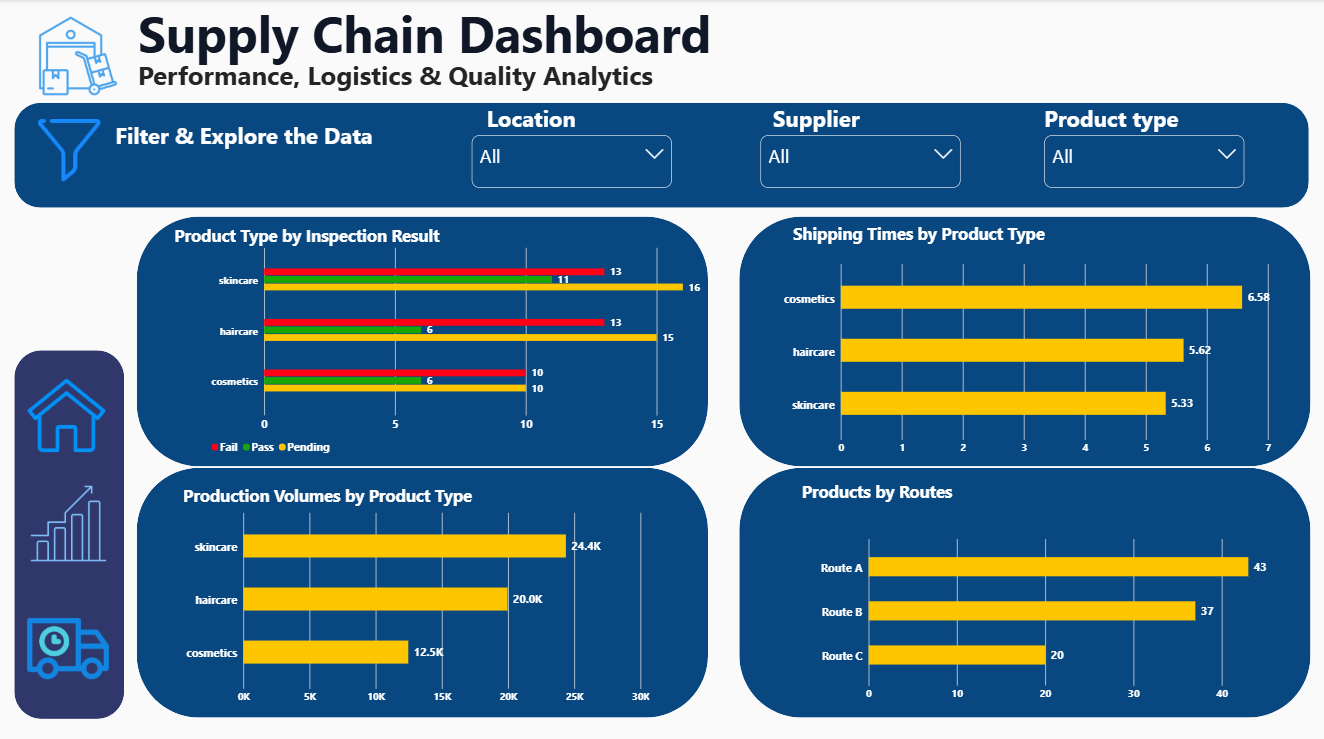

This screenshot's page, from the dashboard's own definition file:
{"tool":"powerbi","page":{"name":"Operations & Quality","canvas":[1920,1080],"ordinal":2},"visuals":[{"type":"textbox","box":[201.5,0,1270.7,121.4],"z":0,"group":"g2"},{"type":"group","id":"g1","title":"Group 1","box":[24,149.3,1874.1,152.3],"z":0},{"type":"shape","box":[24,149.5,1874.1,152.2],"z":0,"group":"g1"},{"type":"slicer","fields":{"Values":["supply_chain_data.Location"]},"box":[686,196.9,290,75.7],"z":0,"group":"g4"},{"type":"slicer","fields":{"Values":["supply_chain_data.Supplier name"]},"box":[1103.7,196.9,290,75.7],"z":0,"group":"g7"},{"type":"slicer","fields":{"Values":["supply_chain_data.Product type"]},"box":[1514.9,196.9,290,75.7],"z":0,"group":"g10"},{"type":"shape","box":[200,314,827,361.9],"z":0,"group":"g8"},{"type":"shape","box":[1072.5,315.3,827,361.9],"z":0,"group":"g11"},{"type":"shape","box":[23.5,508.5,159.3,533.8],"z":0,"group":"g5"},{"type":"image","box":[30.6,545,136.6,112.5],"z":0,"group":"g3"},{"type":"shape","box":[200.8,678.8,827,361.9],"z":0,"group":"g13"},{"type":"shape","box":[1072.5,678.8,827,361.9],"z":0,"group":"g12"},{"type":"image","box":[22.1,702.9,160.7,114.5],"z":0,"group":"g6"},{"type":"image","box":[26.1,881.7,152.6,118.5],"z":0,"group":"g9"},{"type":"group","id":"g2","title":"header","box":[46.2,0,1425.9,196.8],"z":1000},{"type":"textbox","box":[201.5,85.8,1270.7,111],"z":1000,"group":"g2"},{"type":"textbox","box":[707.6,149.3,253.2,47.6],"z":1000,"group":"g4"},{"type":"textbox","box":[1121,149.3,231.6,47.6],"z":1000,"group":"g7"},{"type":"textbox","box":[1514.9,149.3,290,47.6],"z":1000,"group":"g10"},{"type":"textbox","box":[170.6,174.8,415.7,52.2],"z":1000,"group":"g1"},{"type":"clusteredBarChart","fields":{"Category":["supply_chain_data.Product type"],"Series":["supply_chain_data.Inspection results"],"Y":["CountNonNull(supply_chain_data.SKU)"]},"box":[291.4,338.4,751.1,341.4],"z":1000,"group":"g8"},{"type":"clusteredBarChart","fields":{"Category":["supply_chain_data.Product type"],"Y":["Avg(supply_chain_data.Shipping times)"]},"box":[1120.2,361.9,742,318.5],"z":1000,"group":"g11"},{"type":"pageNavigator","box":[22.1,540.2,158.7,118.5],"z":1000,"group":"g3"},{"type":"group","id":"g3","title":"button H","box":[22.1,540.2,158.7,118.5],"z":1000,"group":"g5"},{"type":"pageNavigator","box":[24.1,702.9,152.6,114.5],"z":1000,"group":"g6"},{"type":"clusteredBarChart","fields":{"Category":["supply_chain_data.Product type"],"Y":["Sum(supply_chain_data.Production volumes)"]},"box":[255.1,722,704,318.5],"z":1000,"group":"g13"},{"type":"clusteredBarChart","fields":{"Category":["supply_chain_data.Routes"],"Y":["CountNonNull(supply_chain_data.SKU)"]},"box":[1174.5,760,687.7,276.9],"z":1000,"group":"g12"},{"type":"pageNavigator","box":[26.1,881.7,150.6,118.5],"z":1000,"group":"g9"},{"type":"image","box":[46.2,20.9,137.2,121.4],"z":2000,"group":"g2"},{"type":"group","id":"g4","title":"location","box":[686,149.3,290,123.4],"z":2000,"group":"g1"},{"type":"textbox","box":[1151,323.9,508.5,50.7],"z":2000,"group":"g11"},{"type":"textbox","box":[255.2,324,432.5,50.7],"z":2000,"group":"g8"},{"type":"group","id":"g5","title":"Buttons","box":[22.1,508.5,160.7,533.8],"z":2000},{"type":"textbox","box":[1163.2,697.2,500.1,52.2],"z":2000,"group":"g12"},{"type":"textbox","box":[267.8,702.1,439.7,43.4],"z":2000,"group":"g13"},{"type":"group","id":"g6","title":"button S","box":[22.1,702.9,160.7,114.5],"z":2000,"group":"g5"},{"type":"group","id":"g7","title":"supplier","box":[1103.7,149.3,290,123.4],"z":3000,"group":"g1"},{"type":"group","id":"g8","title":"Product Type by Inspection Result","box":[200,314,842.5,365.8],"z":3000},{"type":"group","id":"g9","title":"button O","box":[26.1,881.7,152.6,118.5],"z":3000,"group":"g5"},{"type":"group","id":"g10","title":"product","box":[1514.9,149.3,290,123.4],"z":4000,"group":"g1"},{"type":"group","id":"g11","title":"Shipping Times by Product Type","box":[1072.5,315.3,827,365.1],"z":4000},{"type":"image","box":[32.1,172.7,144.6,90.4],"z":5000,"group":"g1"},{"type":"group","id":"g12","title":"Products by Routes","box":[1072.5,678.8,827,361.9],"z":5000},{"type":"group","id":"g13","title":"Production Volumes by Product Type","box":[200.8,678.8,827,361.9],"z":6000}]}

Visuals, with their boxes in screenshot pixels (x1, y1, x2, y2), scaled from the page's 1920x1080 canvas onto the 1324x739 screenshot:
textbox: <box>139,0,1015,83</box>
"Group 1" group: <box>17,102,1309,206</box>
shape: <box>17,102,1309,206</box>
slicer - supply_chain_data.Location: <box>473,135,673,187</box>
slicer - supply_chain_data.Supplier name: <box>761,135,961,187</box>
slicer - supply_chain_data.Product type: <box>1045,135,1245,187</box>
shape: <box>138,215,708,462</box>
shape: <box>740,216,1310,463</box>
shape: <box>16,348,126,713</box>
image: <box>21,373,115,450</box>
shape: <box>138,464,709,712</box>
shape: <box>740,464,1310,712</box>
image: <box>15,481,126,559</box>
image: <box>18,603,123,684</box>
"header" group: <box>32,0,1015,135</box>
textbox: <box>139,59,1015,135</box>
textbox: <box>488,102,663,135</box>
textbox: <box>773,102,933,135</box>
textbox: <box>1045,102,1245,135</box>
textbox: <box>118,120,404,155</box>
clusteredBarChart - supply_chain_data.Product type x supply_chain_data.Inspection results: <box>201,232,719,465</box>
clusteredBarChart - supply_chain_data.Product type x Avg(supply_chain_data.Shipping times): <box>772,248,1284,466</box>
pageNavigator: <box>15,370,125,451</box>
"button H" group: <box>15,370,125,451</box>
pageNavigator: <box>17,481,122,559</box>
clusteredBarChart - supply_chain_data.Product type x Sum(supply_chain_data.Production volumes): <box>176,494,661,712</box>
clusteredBarChart - supply_chain_data.Routes x CountNonNull(supply_chain_data.SKU): <box>810,520,1284,710</box>
pageNavigator: <box>18,603,122,684</box>
image: <box>32,14,126,97</box>
"location" group: <box>473,102,673,187</box>
textbox: <box>794,222,1144,256</box>
textbox: <box>176,222,474,256</box>
"Buttons" group: <box>15,348,126,713</box>
textbox: <box>802,477,1147,513</box>
textbox: <box>185,480,488,510</box>
"button S" group: <box>15,481,126,559</box>
"supplier" group: <box>761,102,961,187</box>
"Product Type by Inspection Result" group: <box>138,215,719,465</box>
"button O" group: <box>18,603,123,684</box>
"product" group: <box>1045,102,1245,187</box>
"Shipping Times by Product Type" group: <box>740,216,1310,466</box>
image: <box>22,118,122,180</box>
"Products by Routes" group: <box>740,464,1310,712</box>
"Production Volumes by Product Type" group: <box>138,464,709,712</box>
